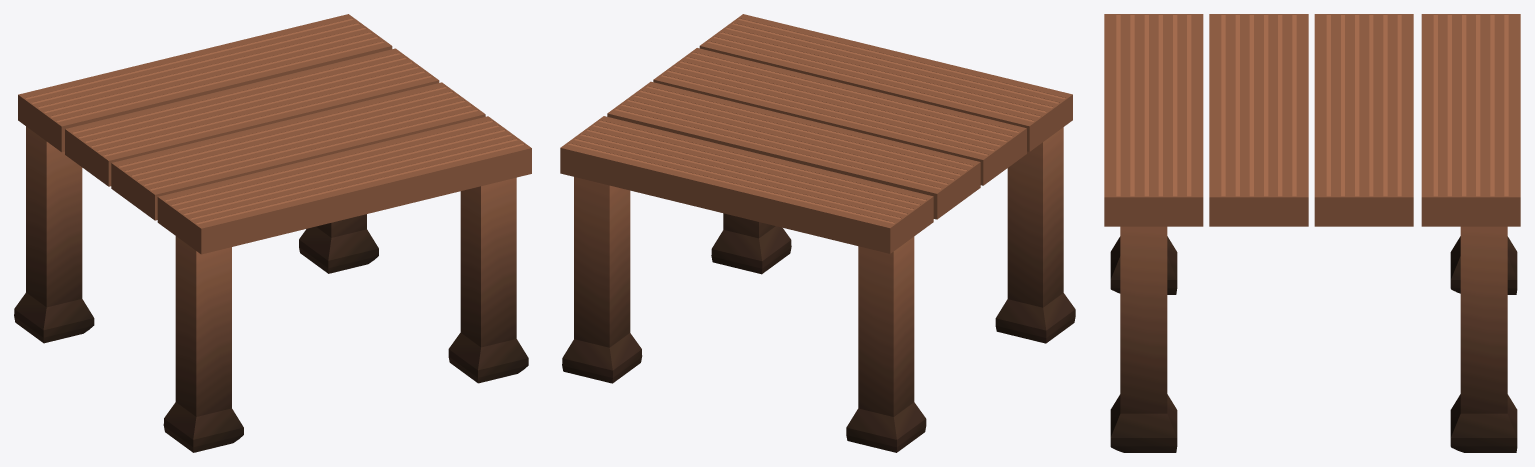
File: masa.fbx
The picture shows the model from 3 angles, left to right: view 1: azimuth 30°, elevation 25°; view 2: azimuth 150°, elevation 25°; view 3: azimuth 270°, elevation 25°; orthographic projection. The views are drawn at different scales.
Parts seen in each view (by area): view 1: masa_5, masa_7, masa_8, masa_6, masa_3, masa_4, masa_1, masa_2; view 2: masa_7, masa_8, masa_6, masa_5, masa_1, masa_2, masa_3, masa_4; view 3: masa_7, masa_8, masa_6, masa_5, masa_2, masa_4, masa_1, masa_3.
Part boxes in pixels (<box>): masa_5: <box>157,116,531,254</box>; masa_7: <box>18,14,392,152</box>; masa_8: <box>65,48,439,186</box>; masa_6: <box>111,82,485,220</box>; masa_3: <box>163,236,243,452</box>; masa_4: <box>448,177,528,383</box>; masa_1: <box>14,126,94,343</box>; masa_2: <box>299,214,378,273</box>; masa_7: <box>560,116,933,253</box>; masa_8: <box>607,81,980,219</box>; masa_6: <box>653,48,1026,185</box>; masa_5: <box>699,14,1072,151</box>; masa_1: <box>846,237,926,452</box>; masa_2: <box>562,177,642,383</box>; masa_3: <box>995,127,1075,343</box>; masa_4: <box>711,213,791,274</box>; masa_7: <box>1421,14,1520,226</box>; masa_8: <box>1314,14,1413,226</box>; masa_6: <box>1209,14,1308,226</box>; masa_5: <box>1104,14,1203,226</box>; masa_2: <box>1450,226,1517,452</box>; masa_4: <box>1110,226,1177,452</box>; masa_1: <box>1450,236,1517,294</box>; masa_3: <box>1110,236,1177,294</box>.
Bounding box in the file's own units: 241 × 155 × 228.
Materials: 1 (1 with a texture image).
